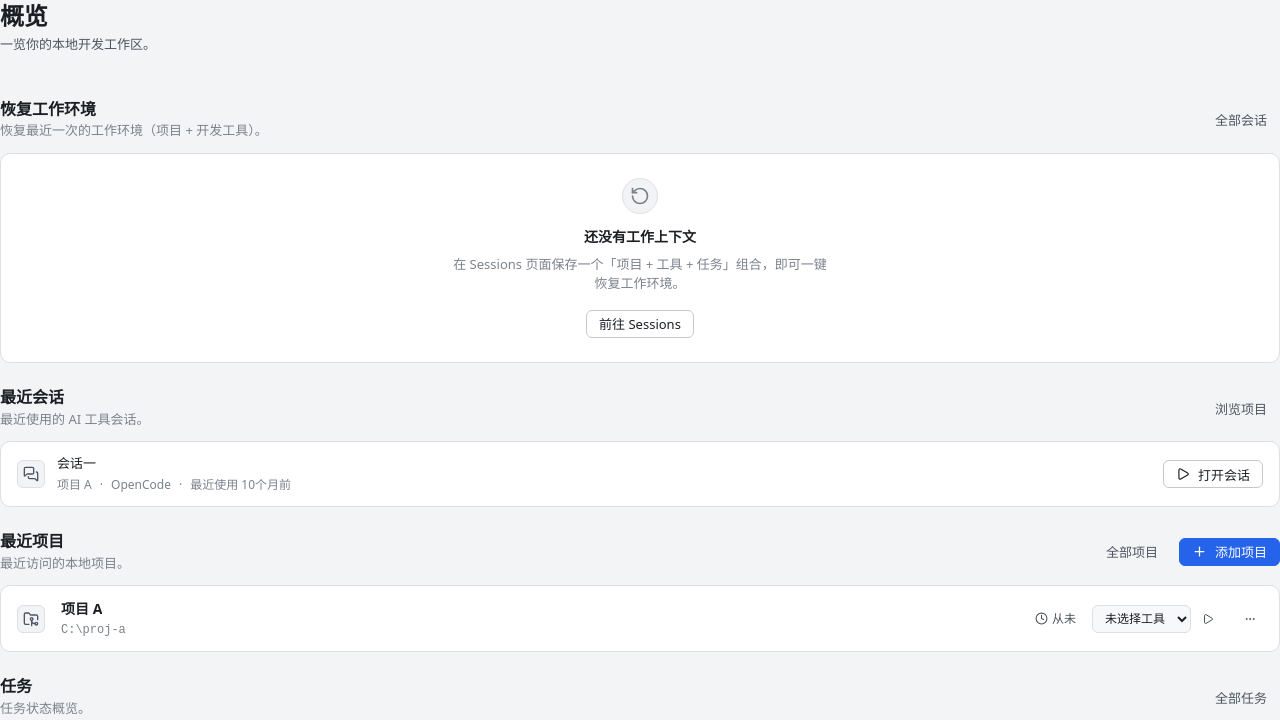
Test: 概览：最近会话 › 点击「打开会话」只显示确认框，不立即启动工具
This screenshot has width=1280, height=720.
Click the button "打开会话" at (1213, 474), box [1163,460,1263,488]
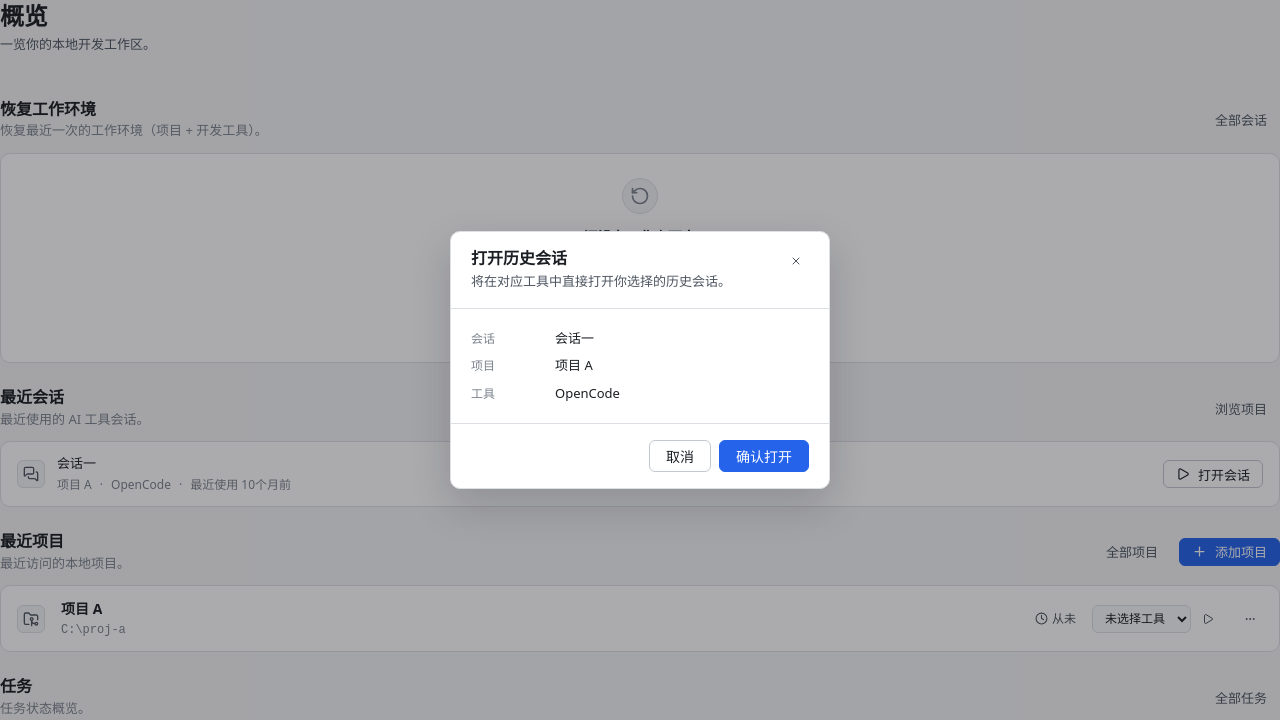
Result: the heading "打开历史会话" is shown at [471,247,567,269]
Result: the text "会话一" is shown at [555,329,594,348]
Result: the text "项目 A" is shown at [555,356,593,376]
